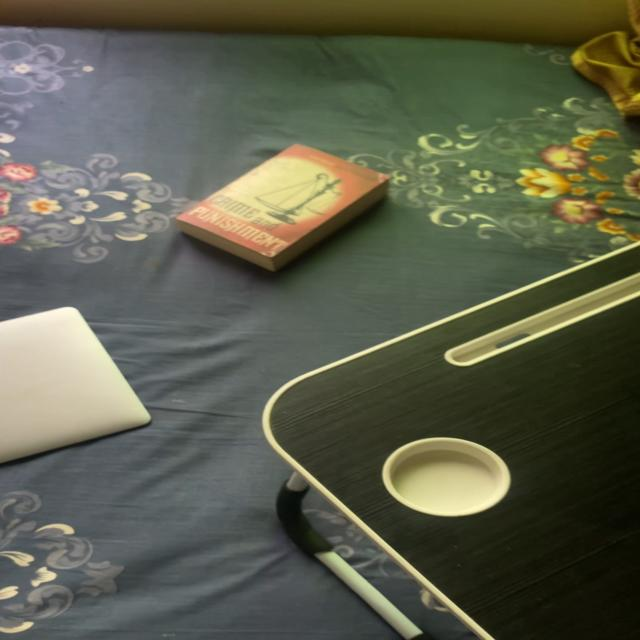book: (169, 134, 393, 282)
laptop: (0, 307, 178, 469)
table: (271, 227, 638, 640)
